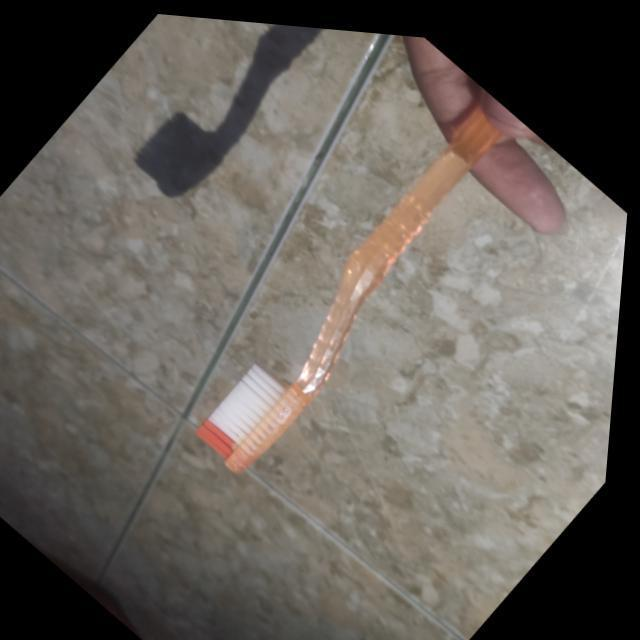toothbrush: (145, 36, 567, 530)
